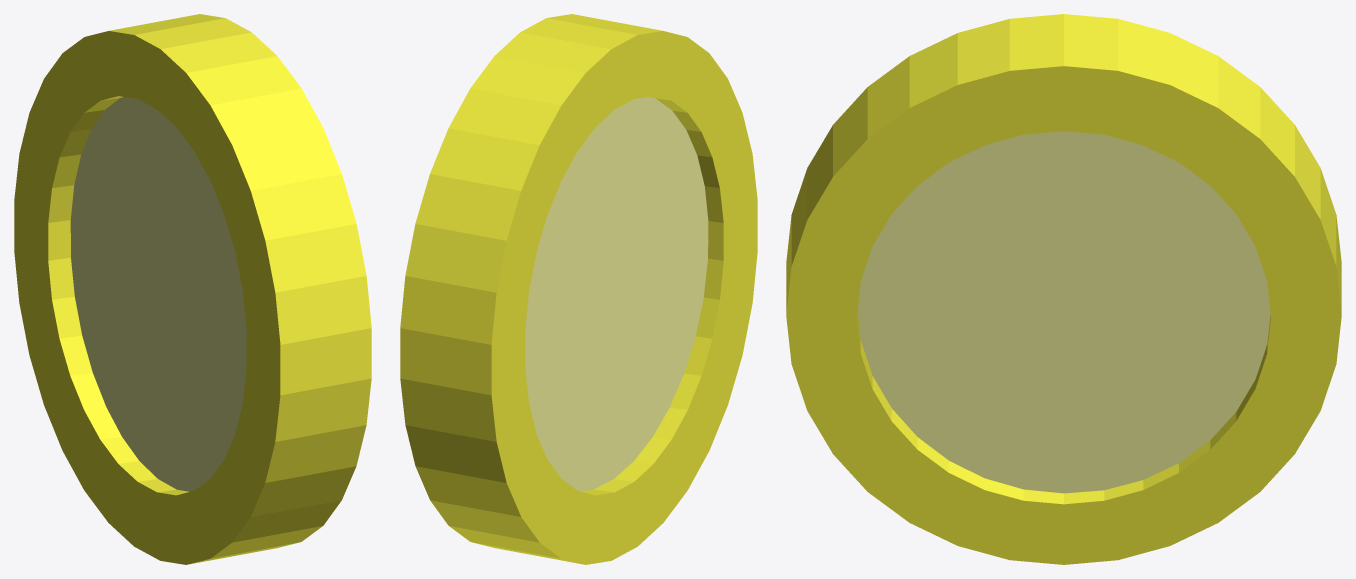
The model's file is Coin 1.fbx.
3 views of the same model, side by side, from view 1: azimuth 30°, elevation 25°; view 2: azimuth 150°, elevation 25°; view 3: azimuth 270°, elevation 25° (orthographic). The views are drawn at different scales.
Parts seen in each view (by area): view 1: Cylinder, Cylinder.001; view 2: Cylinder, Cylinder.001; view 3: Cylinder, Cylinder.001.
Boxes of the visible parts, <box> form: Cylinder: <box>14,14,371,564</box>; Cylinder.001: <box>70,97,246,491</box>; Cylinder: <box>400,14,757,564</box>; Cylinder.001: <box>525,97,708,491</box>; Cylinder: <box>786,14,1341,564</box>; Cylinder.001: <box>857,131,1270,493</box>.
Size of the model in its own units: 18.22 by 73.41 by 71.37.
